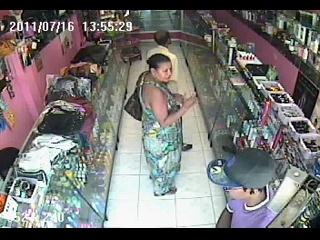Normal: (137, 54, 197, 197), (210, 147, 280, 228), (146, 29, 179, 94), (124, 70, 149, 122)
